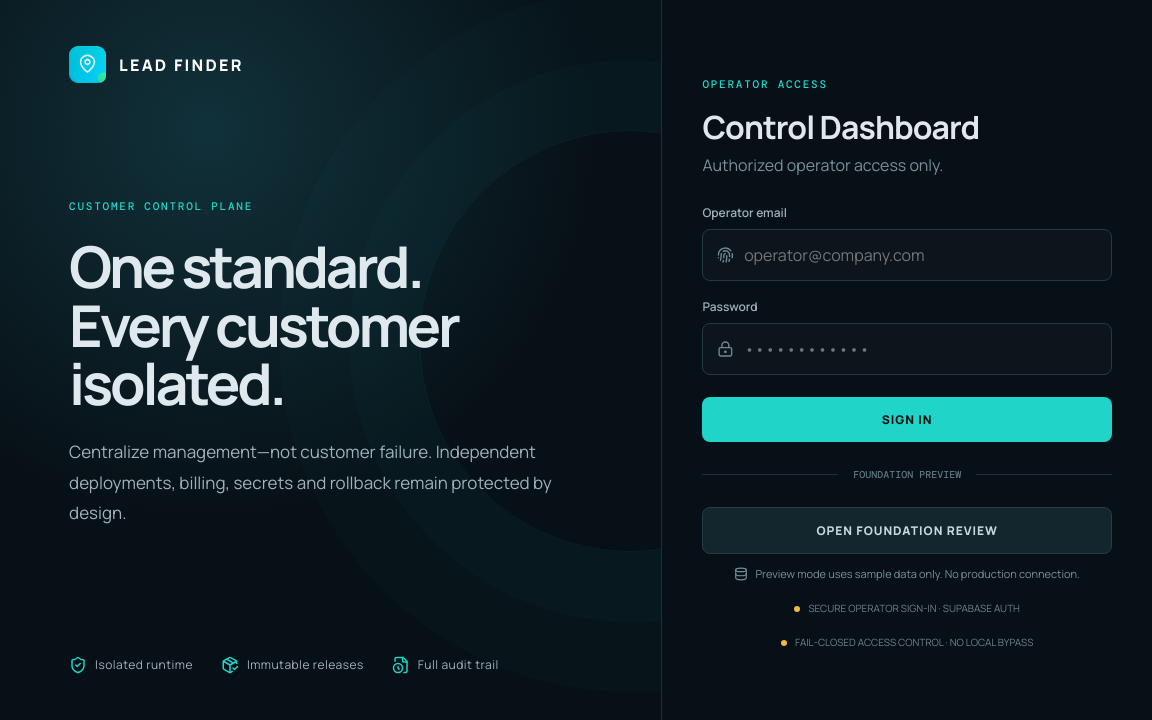
it: D1 auth remediation — production UI auth flow › 3. invalid sign-in remains unauthenticated
Type "admin@leadfinder.business" into the field labelled "Operator email" at (921, 255), box [744,230,1097,280]
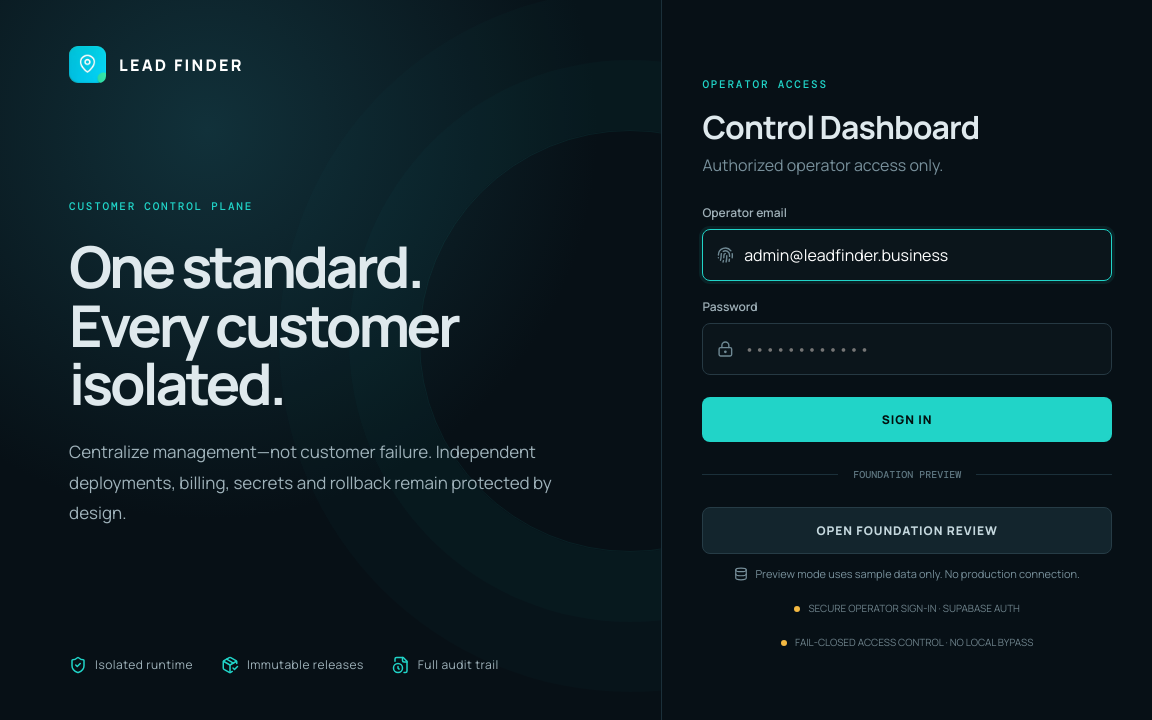
Type "wrong-password" into the password field labelled "Password" at (921, 349), box [744,324,1097,374]
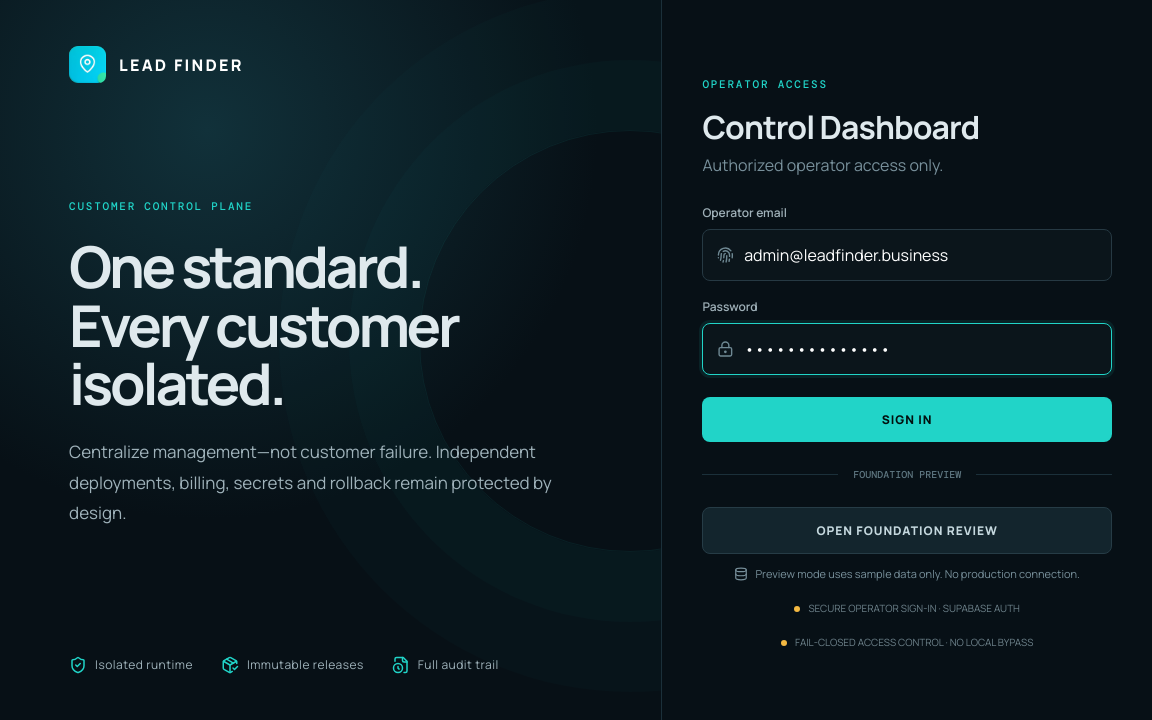
Click the button "SIGN IN" at (907, 420), box [702,397,1112,442]
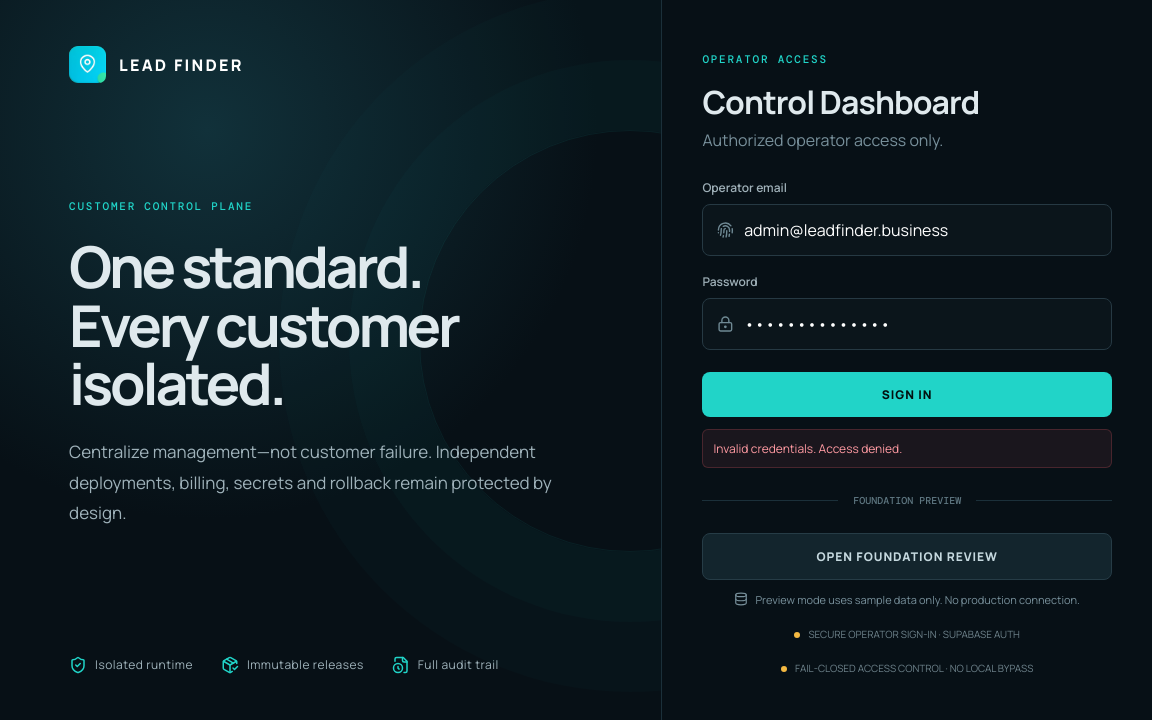
expect the heading "Control Dashboard" is shown: met, box [702,80,979,124]
expect the text "Invalid credentials. Access denied." is shown: met, box [702,428,1112,468]
